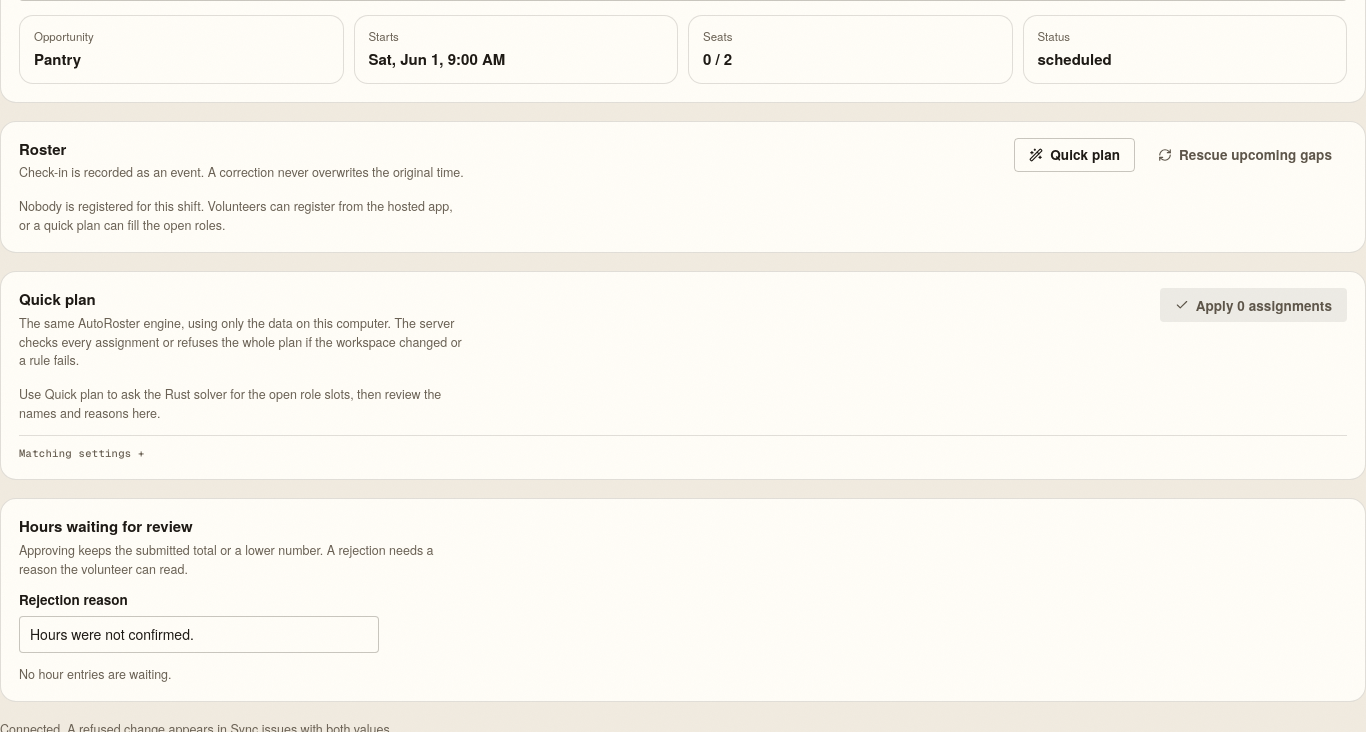
it: shared participation planning › exposes matching settings and the contrastive explanation path
(page scrolled)
Click the heading "Matching settings" at [82, 454], box [19,446,145,461]
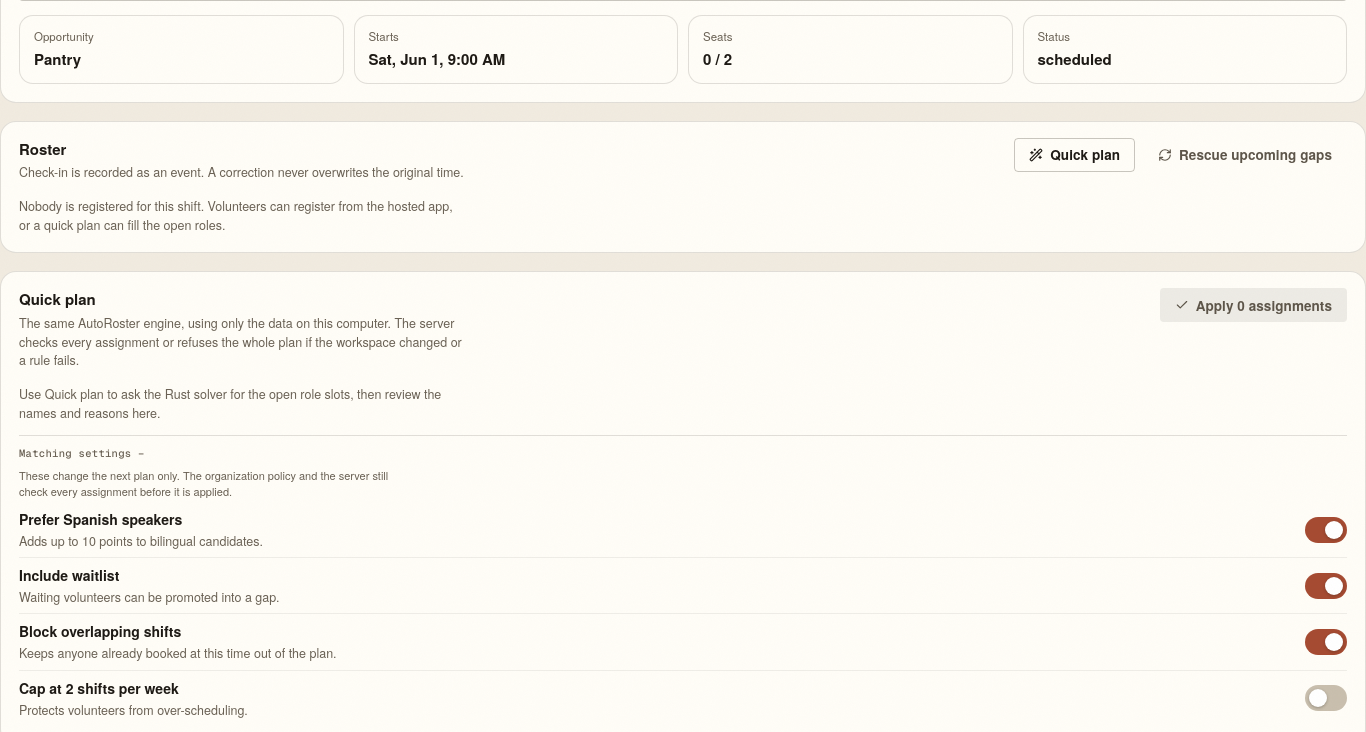
Click the switch named "Prefer Spanish speakers" at [1326, 530], box [1305,517,1347,543]
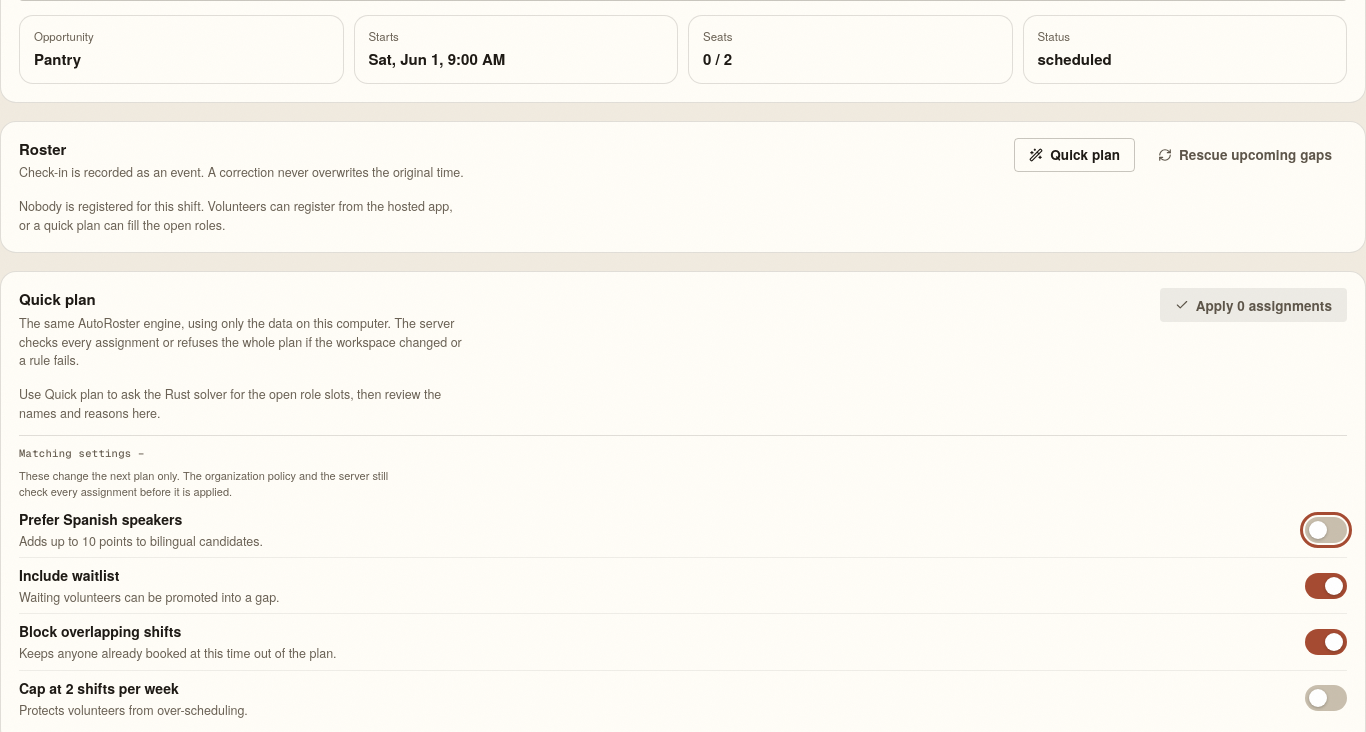
Click the button "Quick plan" at [1075, 155], box [1014,138,1135,172]
(page scrolled)
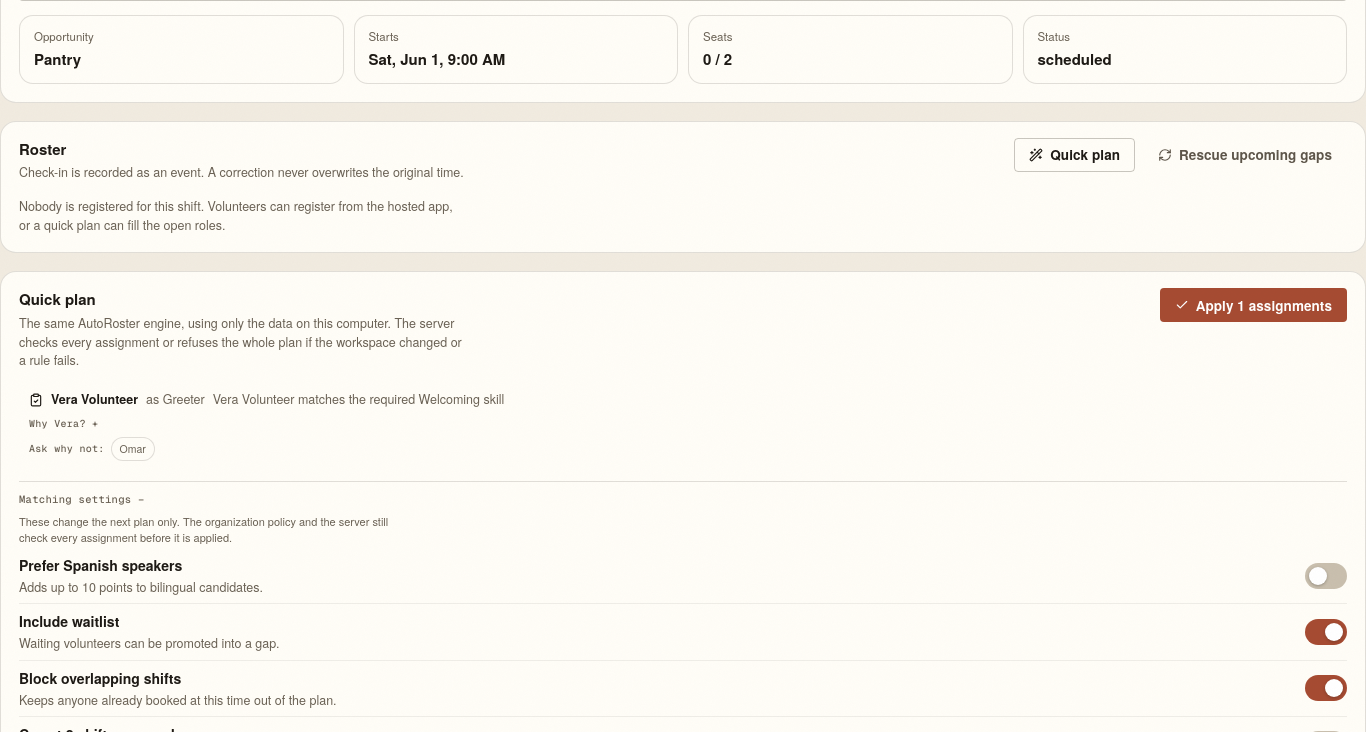
Click the button "Omar" at [133, 449], box [111,437,155,461]
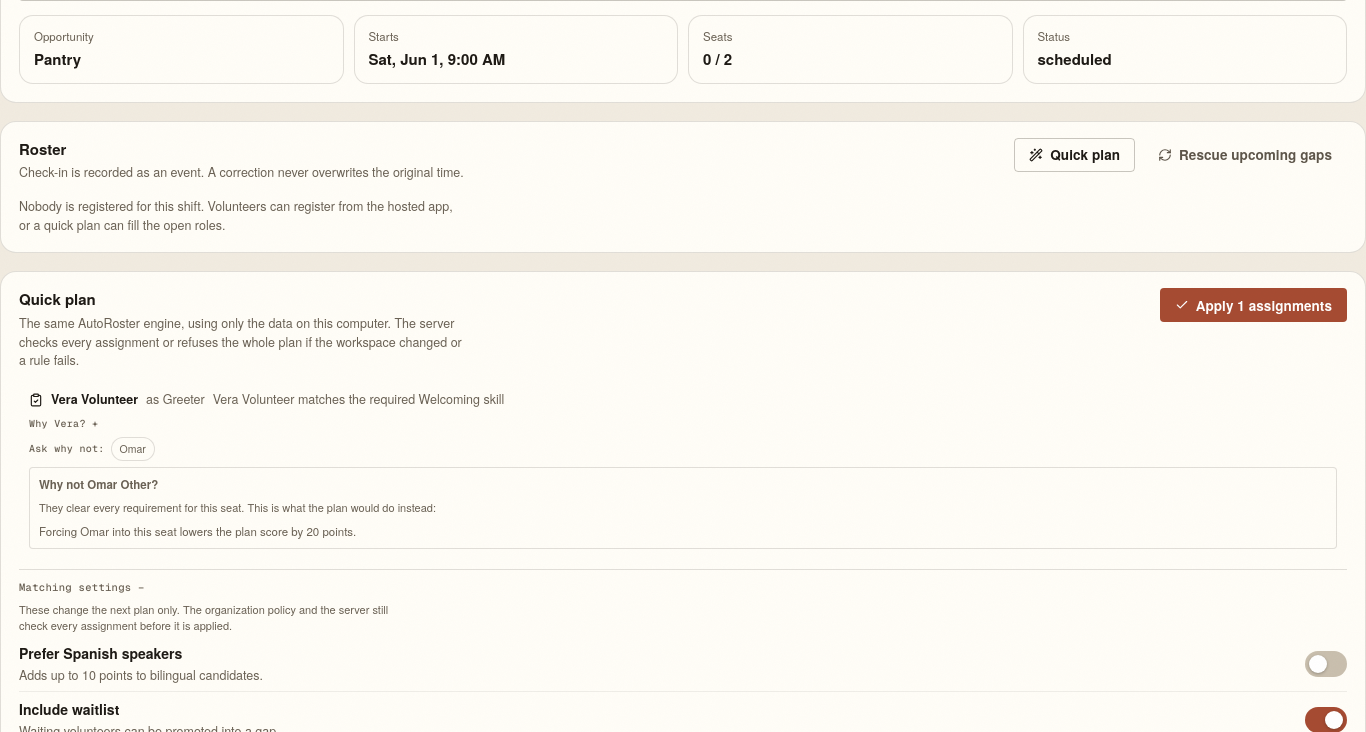
Check: the text "Why not Omar Other?" is shown, box [39,476,158,493]
Check: the list item "Forcing Omar into this seat lowers the plan score by 20 points." is shown, box [39,523,356,539]
